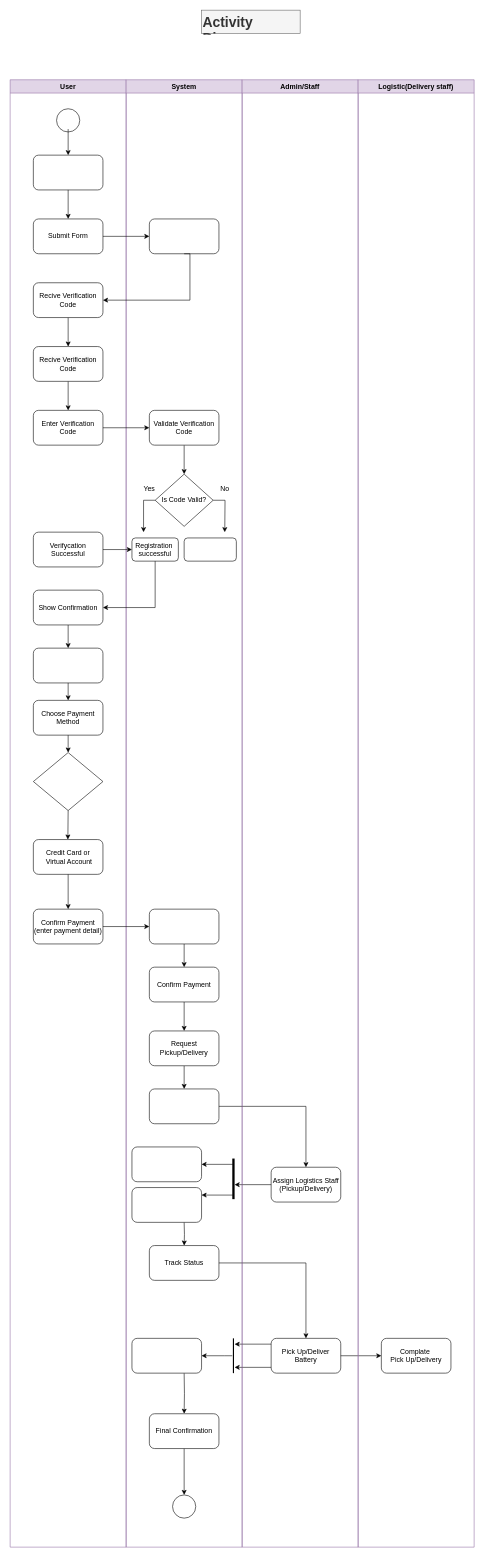
This 484x1557 diagram has some shape labels left out. The centre of each missing label's shape, as x and y in pixels:
"Assign Logistic Staff" belongs at [166,1164].
"End" belongs at [184,1506].
"Fill in Registration Form" belongs at [68,172].
"Payment method choosen?" belongs at [68,781].
"Process Credit Card or Virtual Account Payment" belongs at [184,926].
"Re-enter Code (Try again)" belongs at [210,549].
"Select Battery and Rental Duration" belongs at [68,665].
"Send Verification Code (Email/SMS)" belongs at [184,236].
"Start" belongs at [68,120].
"Synchronize Parallel Tasks" belongs at [166,1355].
"Update Baterry Status" belongs at [166,1204].
"Update Battery Status (Rented)" belongs at [184,1106].
